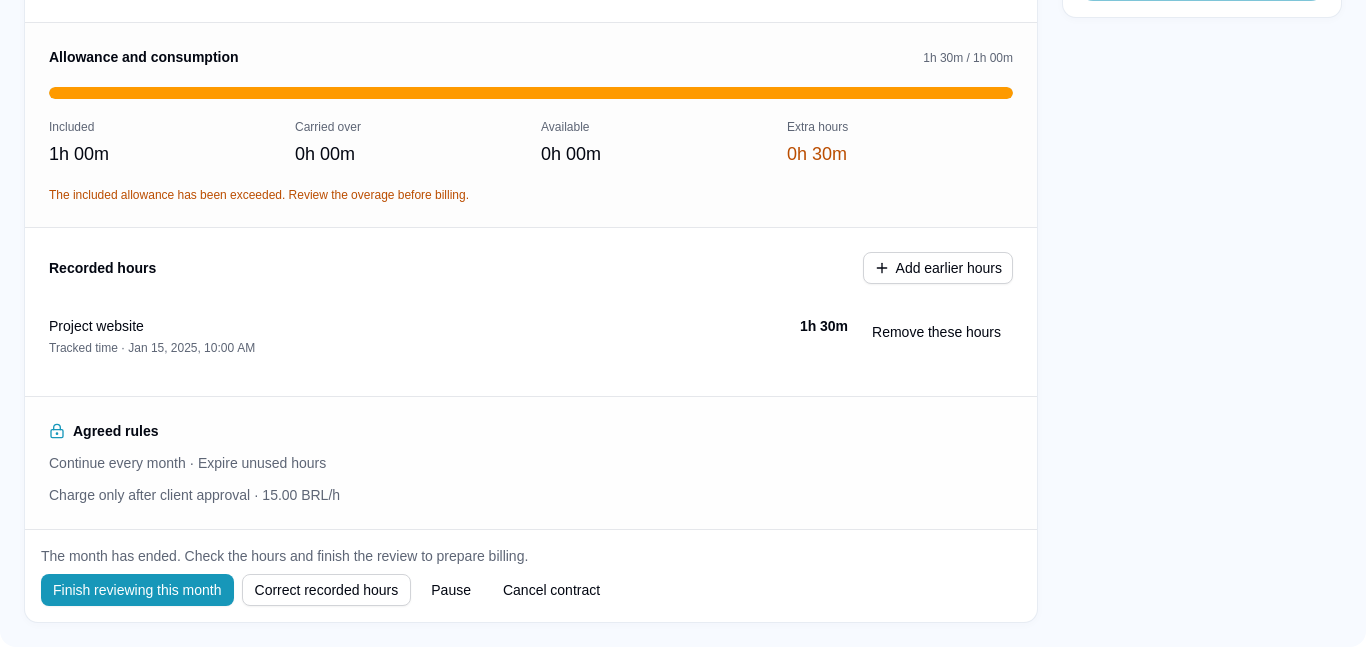
retains a stale-period error instead of retrying approval against a new statement
The width and height of the screenshot is (1366, 647).
(page scrolled)
Step 1. Click the button "Finish reviewing this month" → [137, 590], box [41,574,234,606]
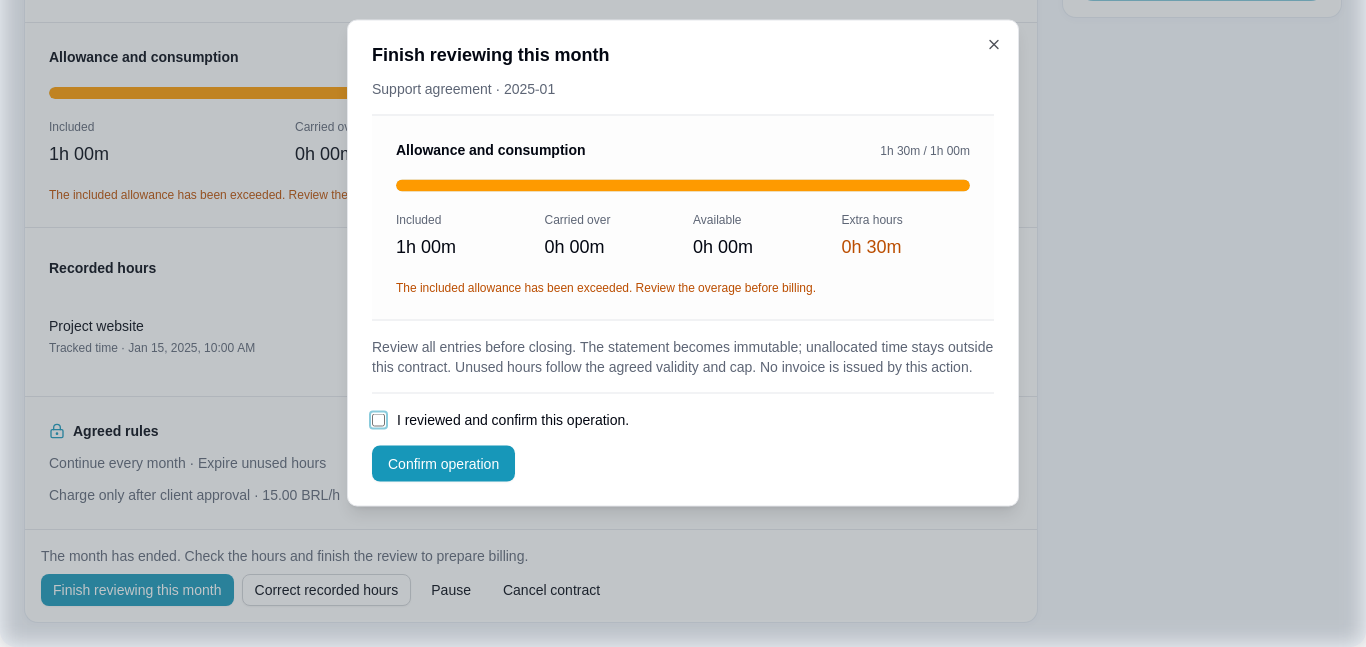
Step 2. Click the checkbox labelled "I reviewed and confirm this operation." → [378, 420], box [372,414,385,426]
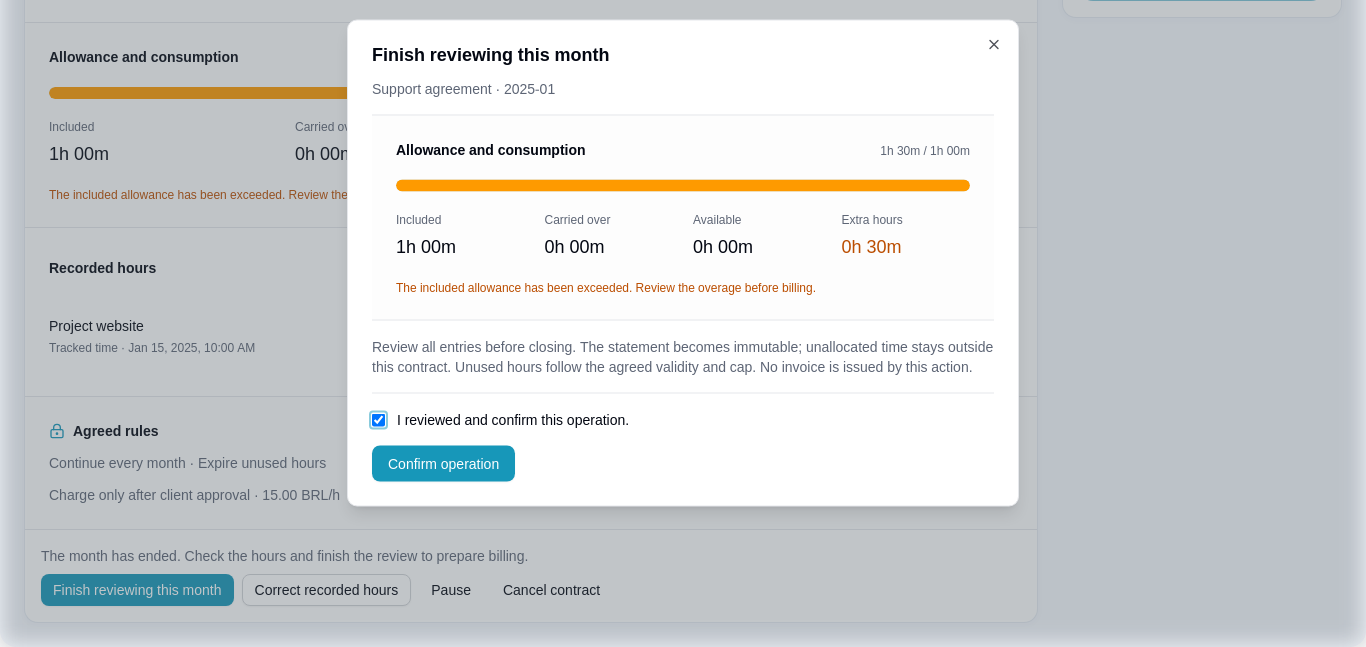
Step 3. Click the button "Confirm operation" → [444, 464], box [372,446,515,482]
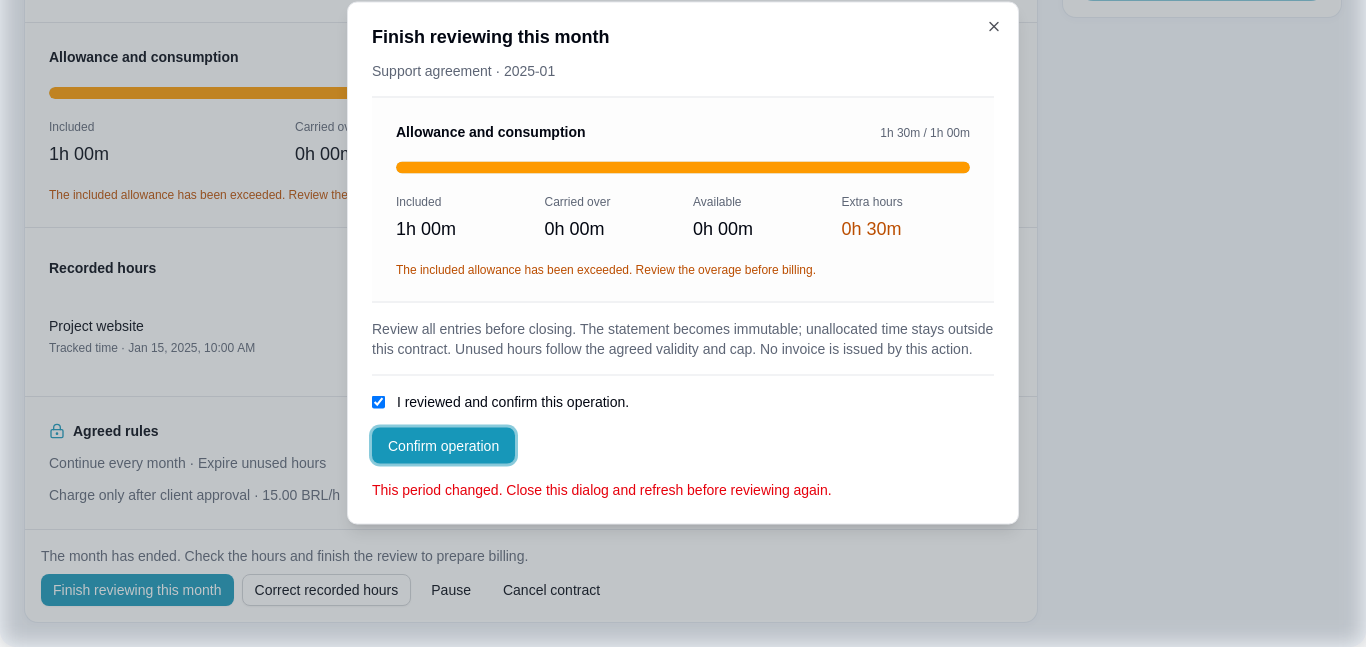
Result: the message "This period changed. Close this dialog and refresh before reviewing again." is shown at [372,480,832,498]
